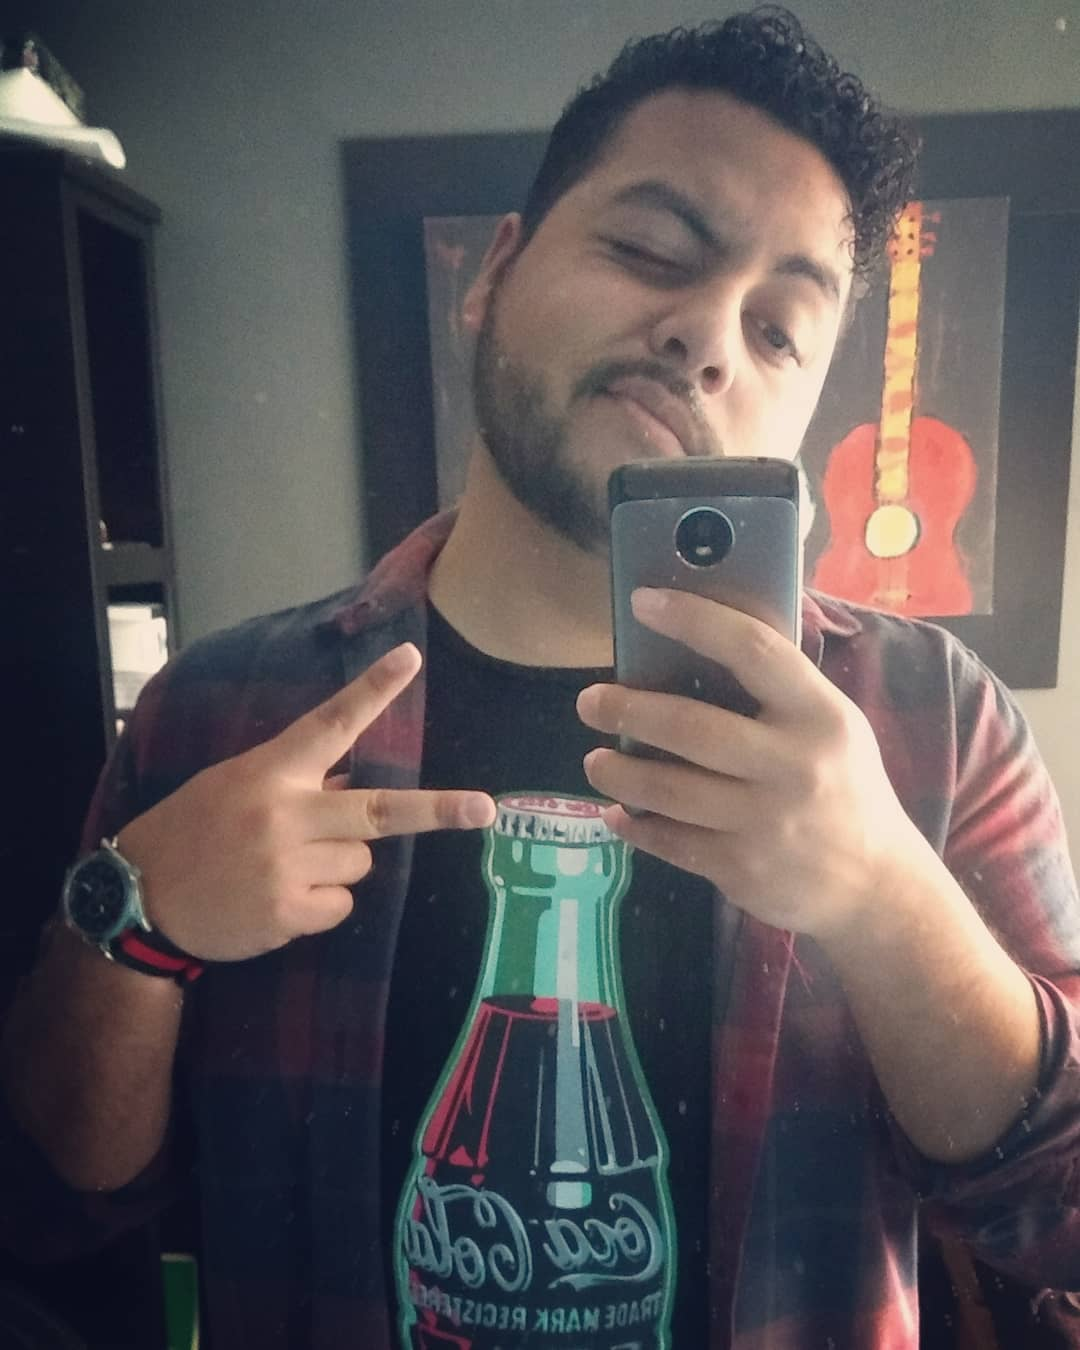Yoshi: (222, 55, 1022, 1097)
